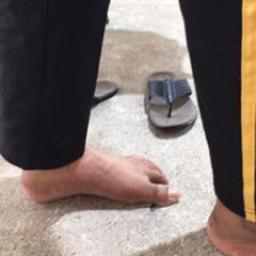Medial View -Left Foot-: (10, 134, 184, 228)
